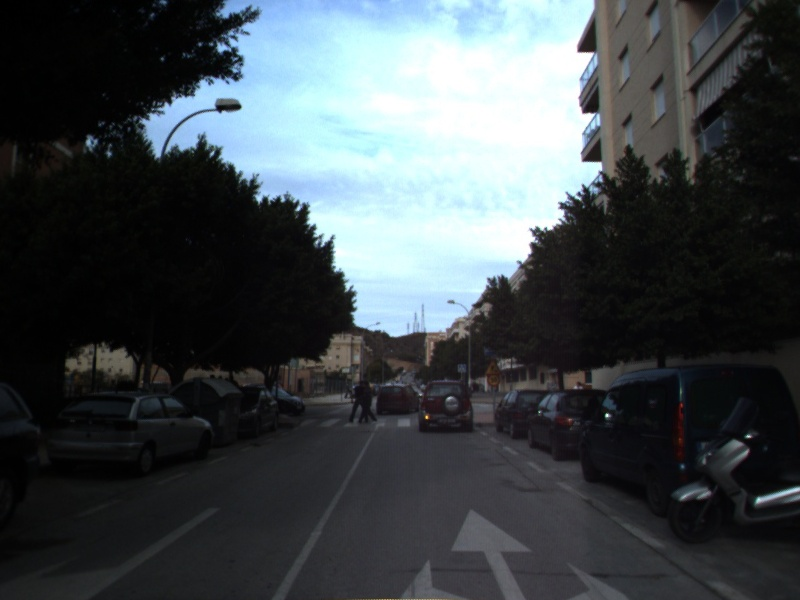STRAIGHT_LEFT_RIGHT: (396, 506, 632, 600)
